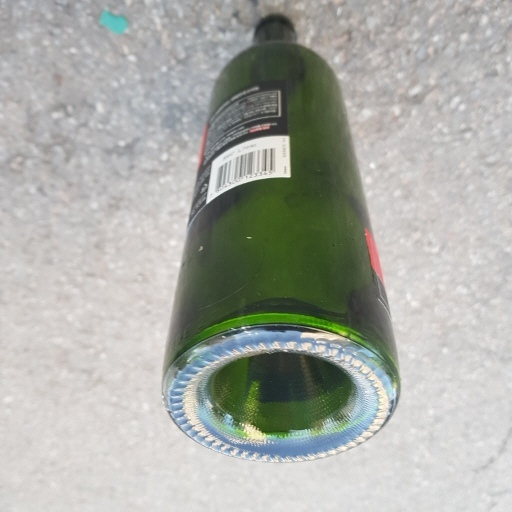Glass_2: (152, 12, 404, 466)
